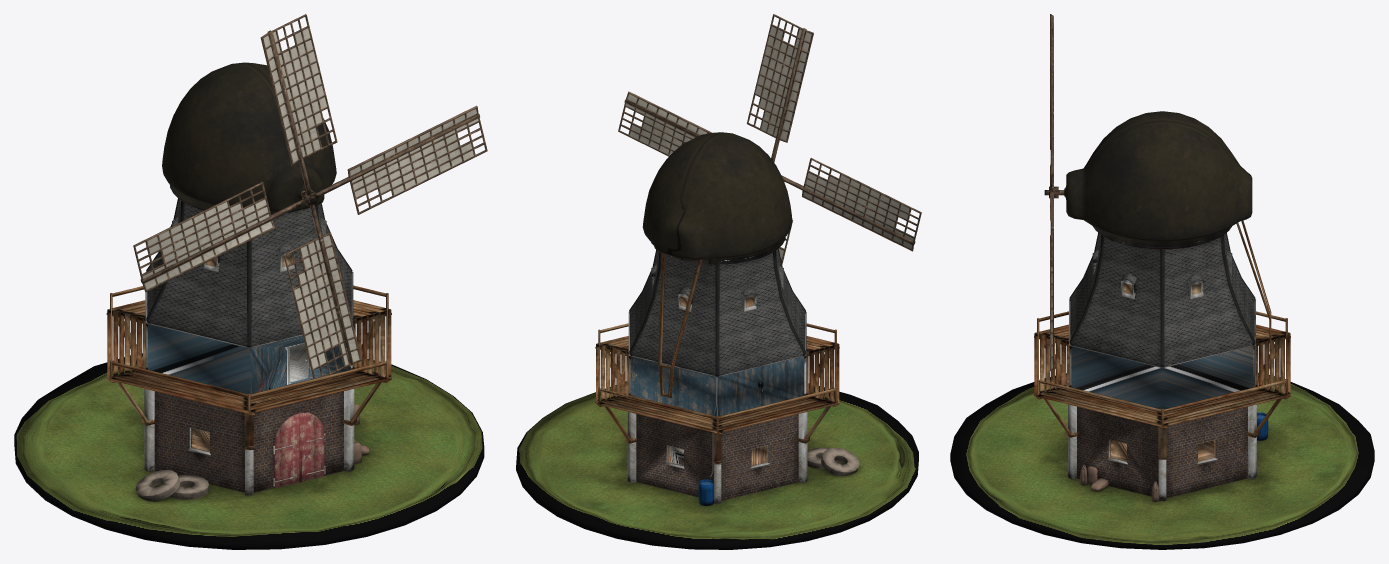
Rendered from model_windmill.obj.
3 views of the same model, side by side, from view 1: azimuth 30°, elevation 25°; view 2: azimuth 150°, elevation 25°; view 3: azimuth 270°, elevation 25° (orthographic). The views are drawn at different scales.
Size of the model in its own units: 1648 by 1861 by 1648.
Materials: 3 (3 with a texture image).
